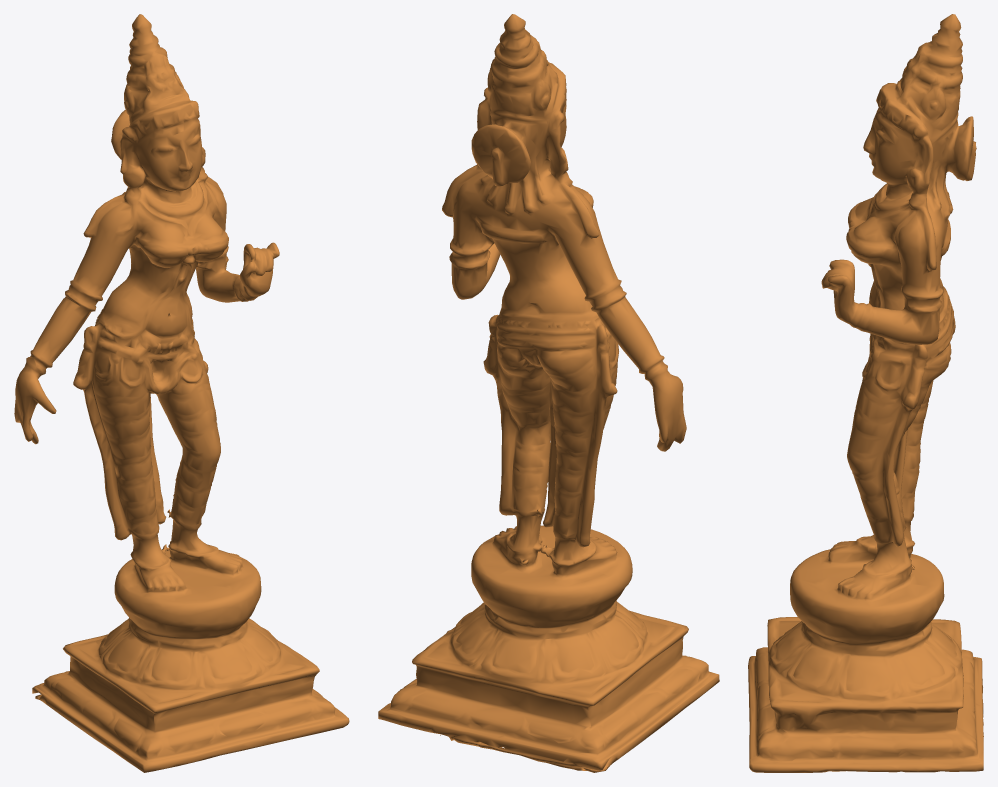
The model's file is Vainavam_Sri_Dhevi_26.glb.
3 views of the same model, side by side, from view 1: azimuth 30°, elevation 25°; view 2: azimuth 150°, elevation 25°; view 3: azimuth 270°, elevation 25° (orthographic). The views are drawn at different scales.
Parts seen in each view (by area): view 1: Vainavam_Sri_Dhevi_26; view 2: Vainavam_Sri_Dhevi_26; view 3: Vainavam_Sri_Dhevi_26.
Part boxes in pixels (x1,y1,x2,y2): Vainavam_Sri_Dhevi_26: (14, 14, 349, 772); Vainavam_Sri_Dhevi_26: (378, 14, 719, 772); Vainavam_Sri_Dhevi_26: (748, 14, 983, 772).
Size of the model in its own units: 0.3497 by 0.8822 by 0.2679.
